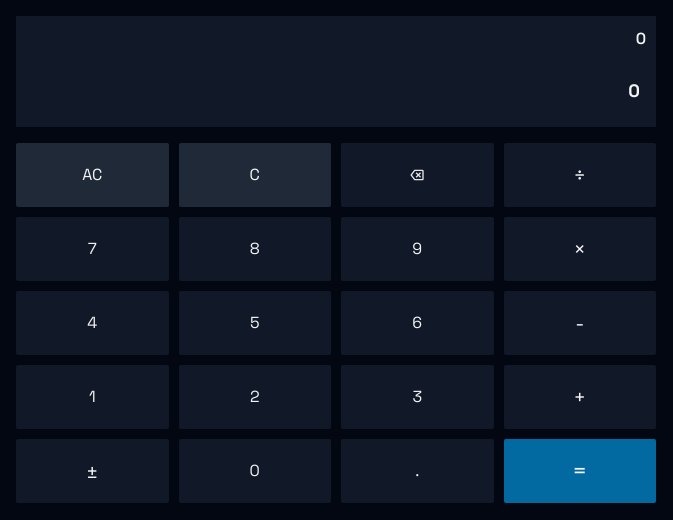
Scenario: Test Operations › Test basic multiplication operation
What coordinates should you click on to do the following:
click the button with test id "1"
I would click on:
 (92, 397)
Its box is [16,365,168,429].
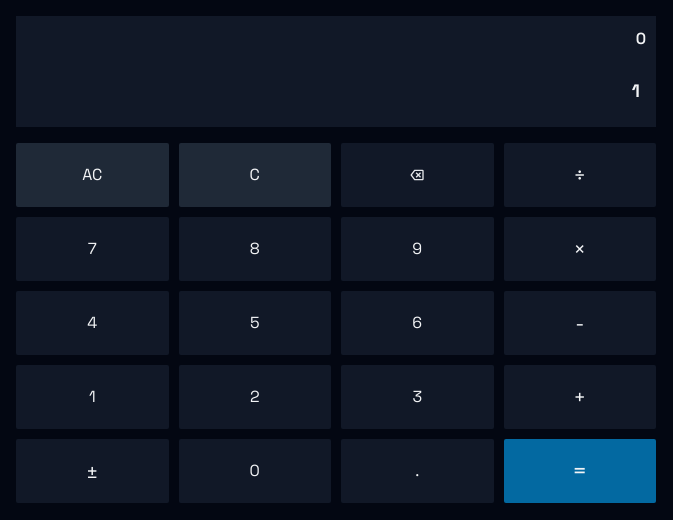
What coordinates should you click on to do the following:
click the button with test id "2"
I would click on:
 (255, 397)
Its box is [178,365,331,429].
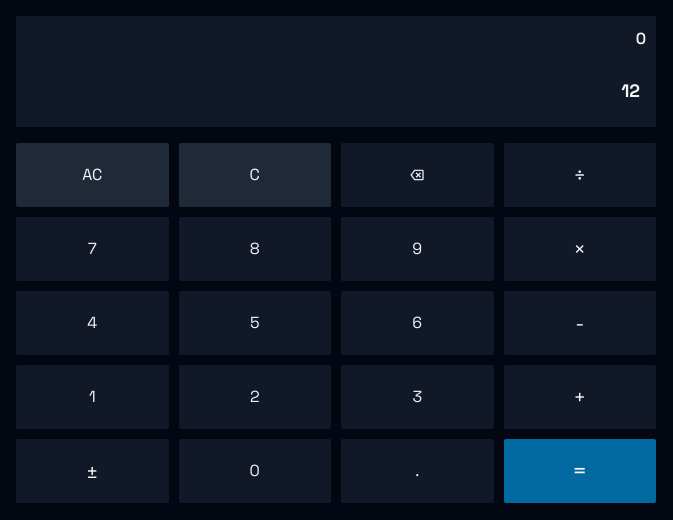
What coordinates should you click on to do the following:
click the button with test id "mul"
I would click on:
 (580, 249)
Its box is [504,217,656,281].
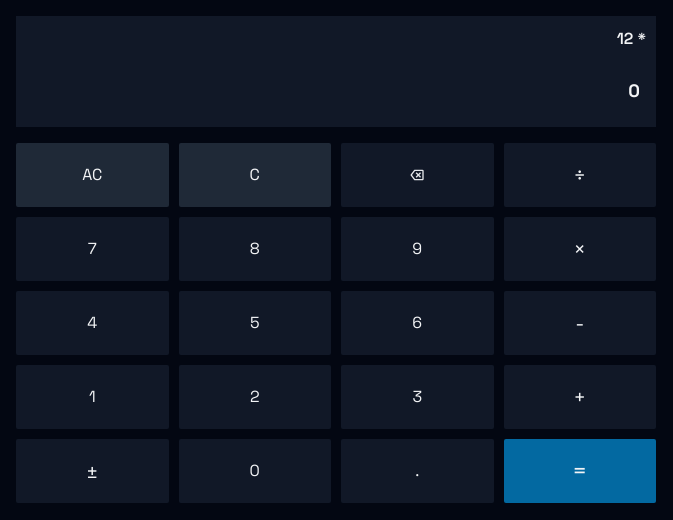
What coordinates should you click on to do the following:
click the button with test id "2"
I would click on:
 (255, 397)
Its box is [178,365,331,429].
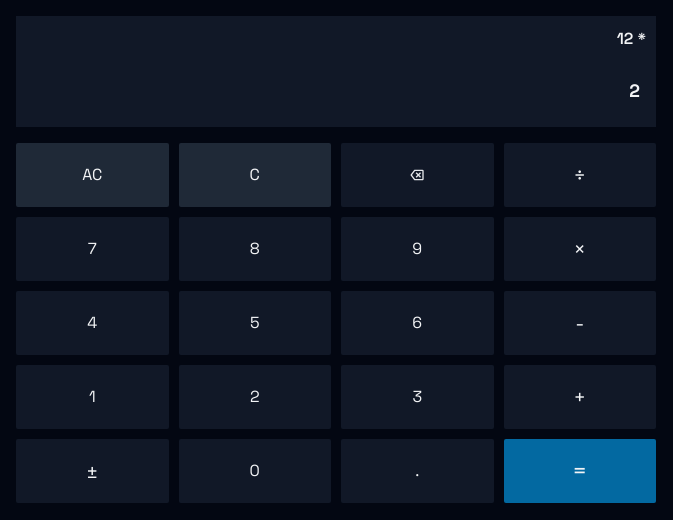
What coordinates should you click on to do the following:
click the button with test id "eval"
I would click on:
 (580, 471)
Its box is [504,439,656,503].
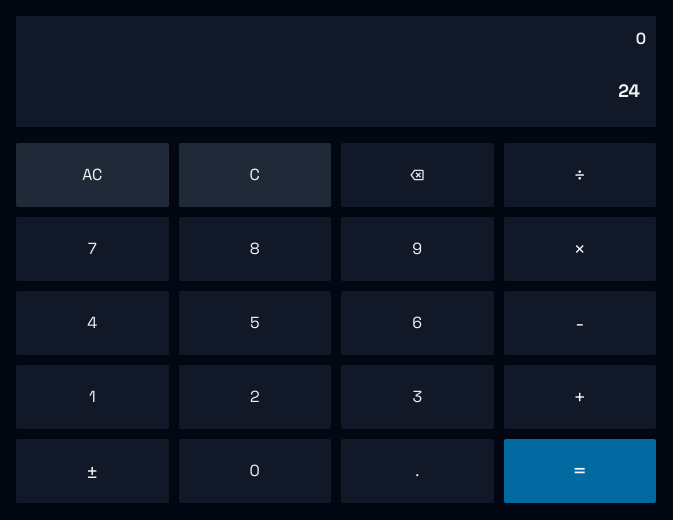
Expected: the text with test id "calculator-currentOperand" reads "24", [618,79,640,102]
